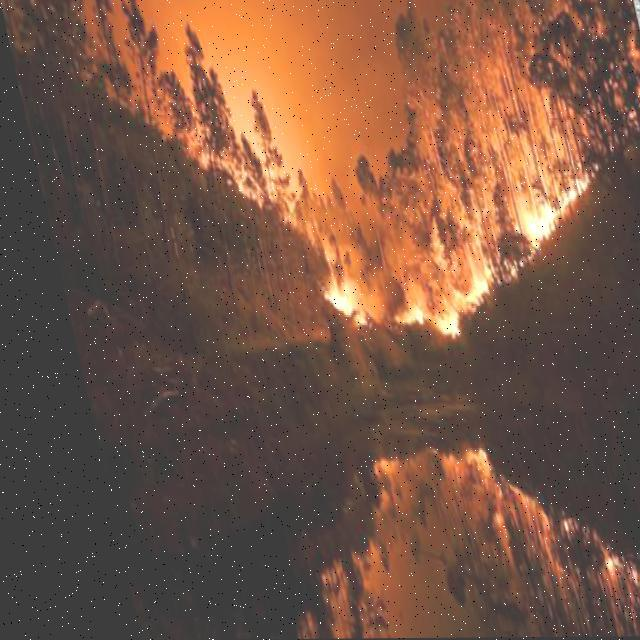Fire: (304, 260, 483, 342), (492, 172, 596, 250)
